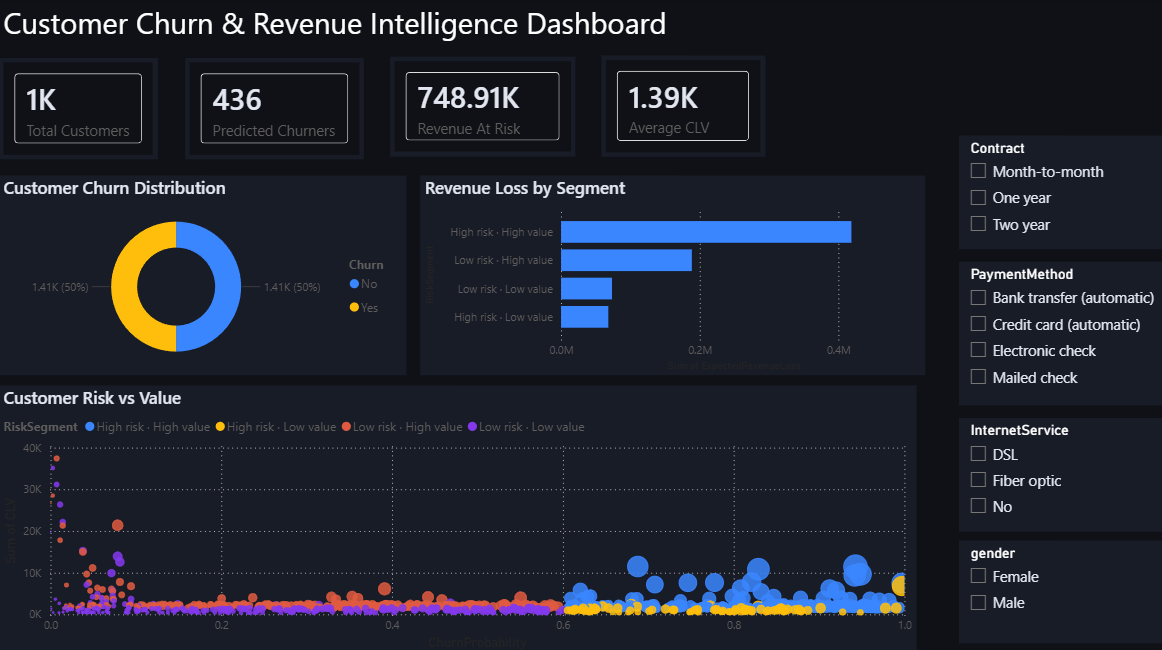

The page's visual inventory and layout, read from the dashboard file:
{"tool":"powerbi","page":{"name":"Executive Overview","canvas":[1280,720],"ordinal":0},"visuals":[{"type":"cardVisual","fields":{"Data":["Telco-Customer-Churn.Total Customers"]},"box":[0,65.9,174.3,111.1],"z":0},{"type":"cardVisual","fields":{"Data":["Telco-Customer-Churn.Predicted Churners"]},"box":[204.5,65.9,196.2,111.1],"z":1},{"type":"cardVisual","fields":{"Data":["Telco-Customer-Churn.Revenue At Risk"]},"box":[429.5,64.5,203.1,109.8],"z":2},{"type":"cardVisual","fields":{"Data":["Telco-Customer-Churn.Average CLV"]},"box":[661.4,63.1,179.8,111.1],"z":3},{"type":"donutChart","title":"Customer Churn Distribution","fields":{"Category":["Telco-Customer-Churn.Churn"],"Y":["CountNonNull(churn_revenue_forecast_results.PredictedChurn)"]},"box":[0,194.9,447.3,219.6],"z":4},{"type":"clusteredBarChart","title":"Revenue Loss by Segment","fields":{"Category":["churn_revenue_forecast_results.RiskSegment"],"Y":["Sum(churn_revenue_forecast_results.ExpectedRevenueLoss)"]},"box":[462.4,194.9,554.4,219.6],"z":5},{"type":"scatterChart","title":"Customer Risk vs Value","fields":{"X":["churn_revenue_forecast_results.ChurnProbability"],"Y":["Sum(churn_revenue_forecast_results.CLV)"],"Size":["Sum(churn_revenue_forecast_results.ExpectedRevenueLoss)"],"Series":["churn_revenue_forecast_results.RiskSegment"]},"box":[0,425.4,1007.2,295],"z":6},{"type":"slicer","fields":{"Values":["Telco-Customer-Churn.PaymentMethod"]},"box":[1053.9,289.5,226.4,157.8],"z":7},{"type":"slicer","fields":{"Values":["Telco-Customer-Churn.Contract"]},"box":[1053.9,150.9,226.4,124.9],"z":8},{"type":"slicer","fields":{"Values":["Telco-Customer-Churn.InternetService"]},"box":[1053.9,461.1,226.4,124.9],"z":9},{"type":"slicer","fields":{"Values":["Telco-Customer-Churn.gender"]},"box":[1053.9,595.5,226.4,112.5],"z":10},{"type":"textbox","box":[0,0,1015.4,54.9],"z":11}]}

Visuals, with their boxes in screenshot pixels (x1, y1, x2, y2), scaled from the page's 1280x720 canvas onto the 1162x650 screenshot:
cardVisual - Telco-Customer-Churn.Total Customers: bbox=(0, 59, 158, 160)
cardVisual - Telco-Customer-Churn.Predicted Churners: bbox=(186, 59, 364, 160)
cardVisual - Telco-Customer-Churn.Revenue At Risk: bbox=(390, 58, 574, 157)
cardVisual - Telco-Customer-Churn.Average CLV: bbox=(600, 57, 764, 157)
"Customer Churn Distribution" donutChart: bbox=(0, 176, 406, 374)
"Revenue Loss by Segment" clusteredBarChart: bbox=(420, 176, 923, 374)
"Customer Risk vs Value" scatterChart: bbox=(0, 384, 914, 649)
slicer - Telco-Customer-Churn.PaymentMethod: bbox=(957, 261, 1161, 404)
slicer - Telco-Customer-Churn.Contract: bbox=(957, 136, 1161, 249)
slicer - Telco-Customer-Churn.InternetService: bbox=(957, 416, 1161, 529)
slicer - Telco-Customer-Churn.gender: bbox=(957, 538, 1161, 639)
textbox: bbox=(0, 0, 922, 50)
